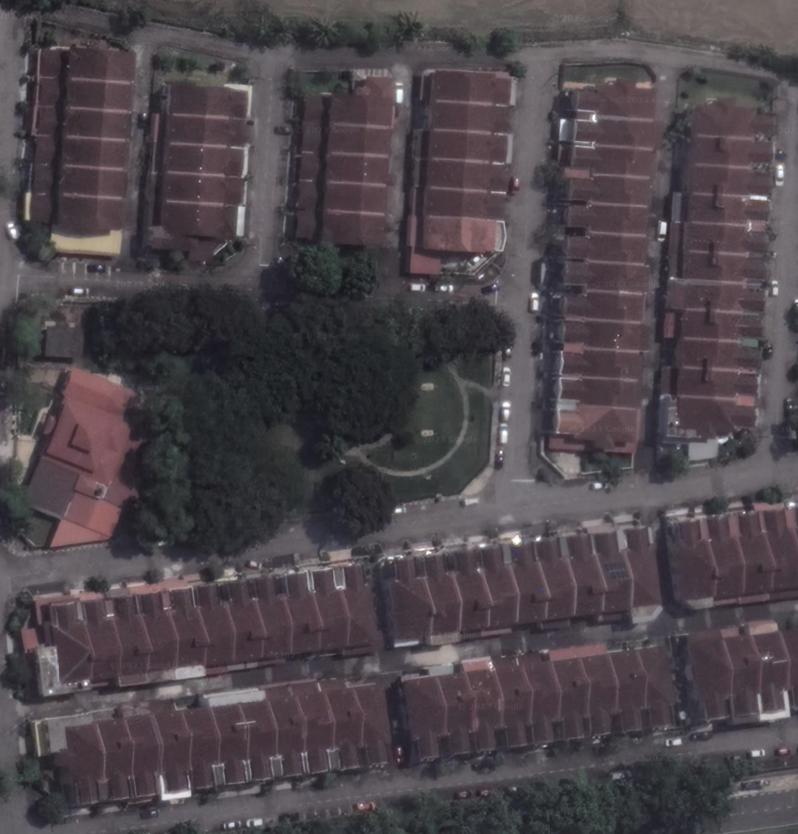building: (22, 363, 146, 552), (682, 626, 736, 726), (50, 719, 108, 810), (397, 673, 450, 763), (324, 73, 398, 132), (553, 405, 643, 453), (674, 393, 761, 442), (384, 555, 432, 643), (574, 75, 659, 122), (725, 620, 765, 719), (494, 659, 537, 751), (523, 655, 565, 748), (354, 677, 395, 771), (325, 682, 367, 773), (439, 667, 480, 760), (165, 81, 253, 124), (688, 95, 780, 136), (298, 687, 339, 778), (640, 640, 681, 731), (428, 67, 516, 109), (419, 549, 460, 639), (48, 601, 91, 686), (152, 707, 194, 794), (621, 525, 663, 611), (751, 628, 792, 715), (124, 710, 164, 799), (705, 512, 744, 603), (469, 663, 507, 756), (341, 565, 383, 649), (759, 506, 798, 596), (163, 586, 205, 669), (532, 536, 572, 623), (477, 544, 517, 631), (242, 697, 282, 784), (612, 647, 651, 736), (418, 215, 500, 257), (183, 703, 222, 791), (213, 699, 252, 787), (281, 567, 319, 657), (192, 582, 230, 671), (735, 507, 772, 598), (589, 529, 628, 615), (223, 578, 261, 666), (158, 175, 250, 211), (99, 715, 137, 802), (674, 276, 768, 311), (427, 103, 518, 139), (584, 649, 620, 740), (563, 532, 601, 618), (164, 116, 254, 152), (135, 590, 174, 673), (509, 541, 547, 626), (675, 518, 713, 602), (108, 594, 146, 678), (161, 147, 252, 182), (423, 160, 511, 196), (309, 566, 345, 654), (560, 204, 650, 239), (557, 654, 592, 744), (451, 548, 487, 635), (252, 574, 288, 661), (556, 377, 645, 412), (674, 363, 763, 398), (273, 693, 309, 779), (49, 200, 126, 240), (423, 134, 513, 168), (561, 260, 651, 294), (557, 349, 647, 383), (676, 335, 765, 369), (560, 291, 648, 325), (679, 247, 772, 279), (82, 598, 117, 683), (565, 232, 652, 266), (565, 176, 657, 208), (676, 306, 767, 338), (65, 46, 136, 87), (684, 191, 775, 222), (561, 322, 649, 354), (685, 161, 773, 193), (569, 146, 654, 179), (420, 190, 509, 221), (571, 118, 657, 150), (58, 110, 136, 145), (688, 132, 778, 162), (55, 140, 133, 174), (683, 220, 771, 250), (160, 206, 241, 238), (60, 83, 139, 115), (56, 170, 131, 203), (325, 128, 395, 160), (322, 187, 390, 218), (322, 216, 388, 246), (323, 160, 391, 189)
